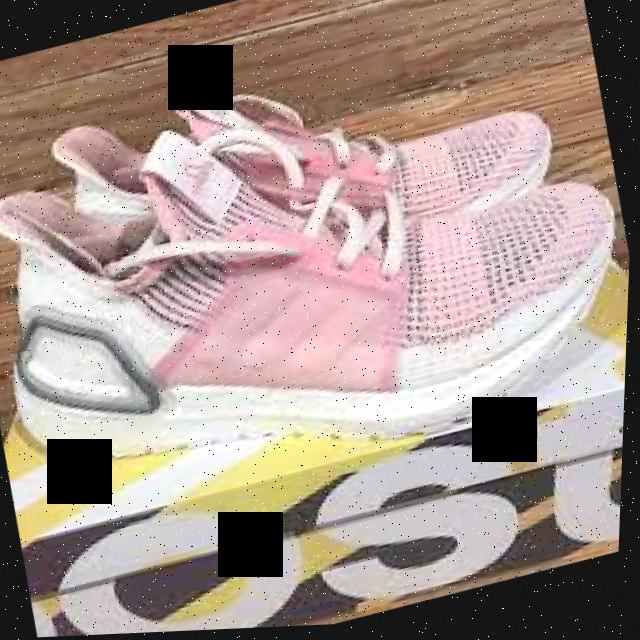shoe: (0, 44, 638, 531)
